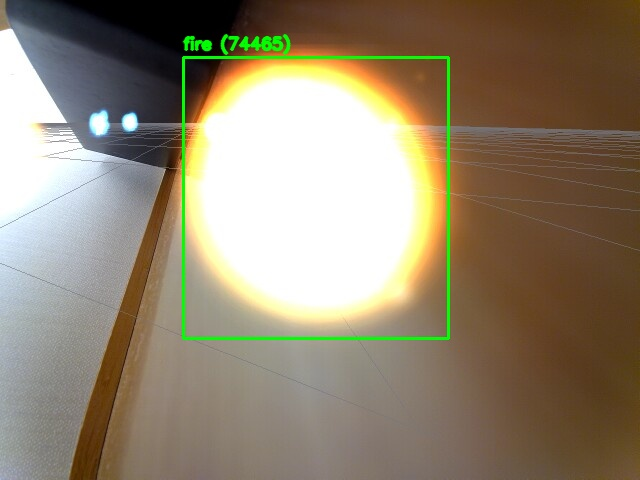fire: (183, 57, 448, 338)
